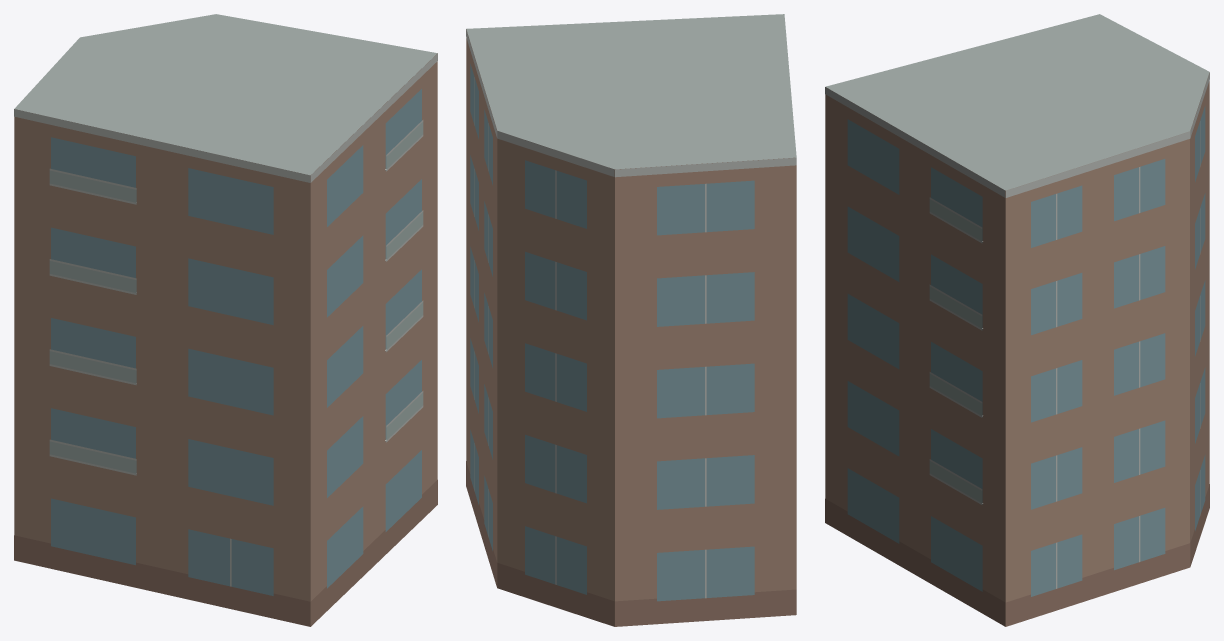
File: survey-upis-32835922.glb
The picture shows the model from 3 angles, left to right: view 1: azimuth 30°, elevation 25°; view 2: azimuth 150°, elevation 25°; view 3: azimuth 270°, elevation 25°; orthographic projection. The views are drawn at different scales.
Parts seen in each view (by area): view 1: survey-upis-32835922.tmp; view 2: survey-upis-32835922.tmp; view 3: survey-upis-32835922.tmp.
Boxes of the visible parts, x1=… form: survey-upis-32835922.tmp: x1=14, y1=14, x2=437, y2=626; survey-upis-32835922.tmp: x1=466, y1=14, x2=796, y2=626; survey-upis-32835922.tmp: x1=825, y1=14, x2=1209, y2=626.
Size of the model in its own units: 12.43 by 14.3 by 11.44.
